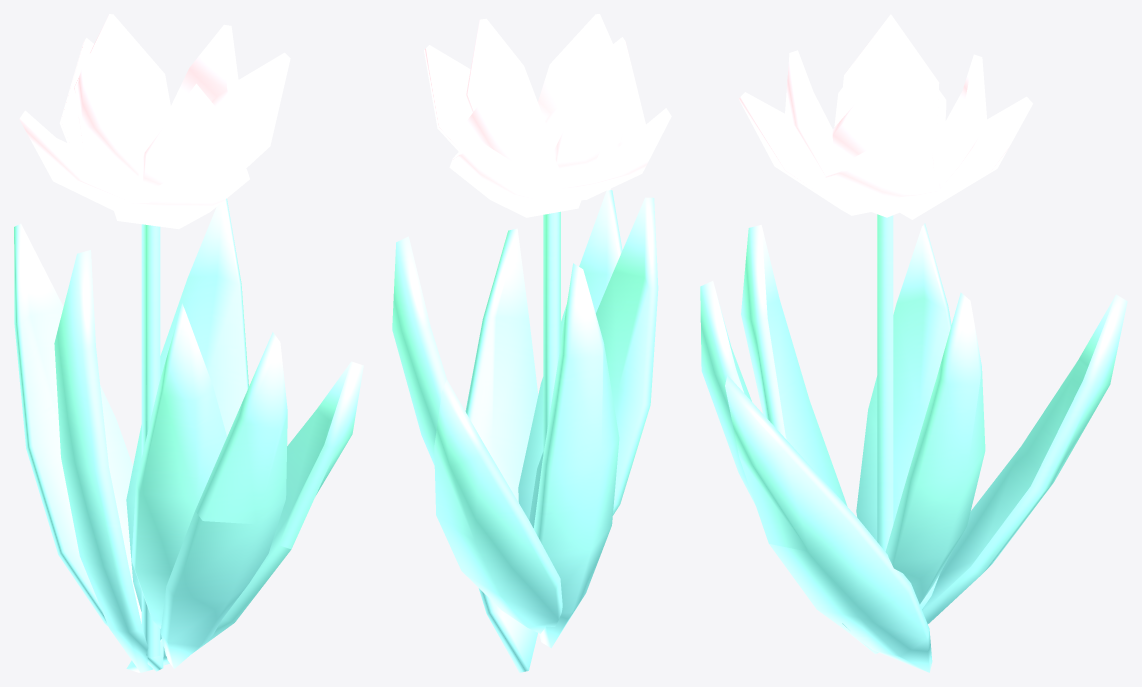
Rendered from Lillie_White.glb.
The picture shows the model from 3 angles, left to right: view 1: azimuth 30°, elevation 25°; view 2: azimuth 150°, elevation 25°; view 3: azimuth 270°, elevation 25°; orthographic projection. The views are drawn at different scales.
Visible parts, largest first — view 1: Liliy_White_Material #150_0; view 2: Liliy_White_Material #150_0; view 3: Liliy_White_Material #150_0.
Boxes of the visible parts, box(x1,y1,x2,y2) form: Liliy_White_Material #150_0: box(14, 14, 363, 672); Liliy_White_Material #150_0: box(392, 14, 671, 672); Liliy_White_Material #150_0: box(700, 14, 1127, 672).
Size of the model in its own units: 0.4812 by 1.13 by 0.6979.
